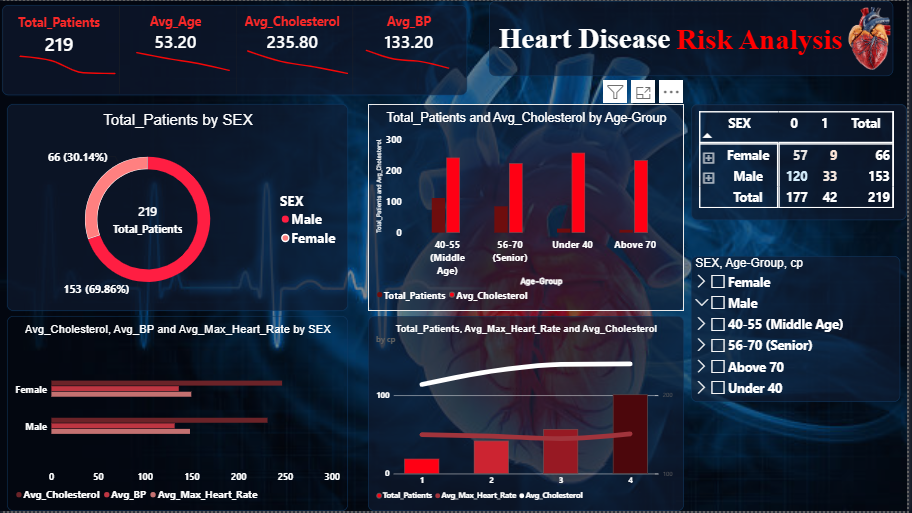

The page's visual inventory and layout, read from the dashboard file:
{"tool":"powerbi","page":{"name":"Heart Disease Risk Analysis","canvas":[1920,1080],"ordinal":0},"visuals":[{"type":"cardVisual","fields":{"Data":["scott_schema heart_disease.Total_Patients","scott_schema heart_disease.Avg_Age","scott_schema heart_disease.Avg_Cholesterol","scott_schema heart_disease.Avg_BP"]},"box":[4.2,8.5,984.7,190.6],"z":0},{"type":"donutChart","fields":{"Category":["scott_schema heart_disease.SEX"],"Y":["scott_schema heart_disease.Total_Patients"]},"box":[14.8,218.1,722.1,438.4],"z":1000},{"type":"clusteredBarChart","fields":{"Category":["scott_schema heart_disease.SEX"],"Y":["scott_schema heart_disease.Avg_Cholesterol","scott_schema heart_disease.Avg_BP","scott_schema heart_disease.Avg_Max_Heart_Rate"]},"box":[14.8,667.1,722.1,412.9],"z":2000},{"type":"clusteredColumnChart","fields":{"Category":["scott_schema heart_disease.Age-Group"],"Y":["scott_schema heart_disease.Total_Patients","scott_schema heart_disease.Avg_Cholesterol"]},"box":[779.3,218.1,669.2,438.4],"z":3000},{"type":"lineStackedColumnComboChart","fields":{"Category":["scott_schema heart_disease.cp"],"Y":["scott_schema heart_disease.Total_Patients"],"Y2":["scott_schema heart_disease.Avg_Max_Heart_Rate","scott_schema heart_disease.Avg_Cholesterol"]},"box":[779.3,667.1,669.2,412.9],"z":4000},{"type":"pivotTable","fields":{"Rows":["scott_schema heart_disease.SEX","scott_schema heart_disease.exang"],"Columns":["scott_schema heart_disease.fbs"],"Values":["scott_schema heart_disease.Total_Patients"]},"box":[1463.3,218.1,457.4,245.6],"z":5000},{"type":"slicer","fields":{"Values":["scott_schema heart_disease.SEX","scott_schema heart_disease.Age-Group","scott_schema heart_disease.cp"]},"box":[1463.3,540,442.6,309.2],"z":6000},{"type":"lineChart","fields":{"Y":["scott_schema heart_disease.Total_Patients"],"Category":["scott_schema heart_disease.Age-Group"]},"box":[0,80.5,285.9,93.2],"z":7000},{"type":"lineChart","fields":{"Y":["scott_schema heart_disease.Avg_Age"],"Category":["scott_schema heart_disease.Age-Group"]},"box":[247.8,80.5,279.5,95.3],"z":8000},{"type":"lineChart","fields":{"Y":["scott_schema heart_disease.Avg_Cholesterol"],"Category":["scott_schema heart_disease.Age-Group"]},"box":[480.7,80.5,298.6,95.3],"z":9000},{"type":"lineChart","fields":{"Y":["scott_schema heart_disease.Avg_BP"],"Category":["scott_schema heart_disease.Age-Group"]},"box":[736.9,80.5,252,95.3],"z":10000},{"type":"shape","box":[1035.5,0,855.5,158.8],"z":11000},{"type":"image","box":[1759,6.4,160.9,146.1],"z":12000},{"type":"shape","box":[1425.2,8.5,366.4,144],"z":13000}]}

Visuals, with their boxes in screenshot pixels (x1, y1, x2, y2), scaled from the page's 1920x1080 canvas onto the 912x513 screenshot:
cardVisual - scott_schema heart_disease.Total_Patients x scott_schema heart_disease.Avg_Age: x1=2, y1=4, x2=470, y2=95
donutChart - scott_schema heart_disease.SEX x scott_schema heart_disease.Total_Patients: x1=7, y1=104, x2=350, y2=312
clusteredBarChart - scott_schema heart_disease.SEX x scott_schema heart_disease.Avg_Cholesterol: x1=7, y1=317, x2=350, y2=512
clusteredColumnChart - scott_schema heart_disease.Age-Group x scott_schema heart_disease.Total_Patients: x1=370, y1=104, x2=688, y2=312
lineStackedColumnComboChart - scott_schema heart_disease.cp x scott_schema heart_disease.Total_Patients: x1=370, y1=317, x2=688, y2=512
pivotTable - scott_schema heart_disease.SEX x scott_schema heart_disease.exang: x1=695, y1=104, x2=911, y2=220
slicer - scott_schema heart_disease.SEX x scott_schema heart_disease.Age-Group: x1=695, y1=256, x2=905, y2=403
lineChart - scott_schema heart_disease.Total_Patients x scott_schema heart_disease.Age-Group: x1=0, y1=38, x2=136, y2=83
lineChart - scott_schema heart_disease.Avg_Age x scott_schema heart_disease.Age-Group: x1=118, y1=38, x2=250, y2=84
lineChart - scott_schema heart_disease.Avg_Cholesterol x scott_schema heart_disease.Age-Group: x1=228, y1=38, x2=370, y2=84
lineChart - scott_schema heart_disease.Avg_BP x scott_schema heart_disease.Age-Group: x1=350, y1=38, x2=470, y2=84
shape: x1=492, y1=0, x2=898, y2=75
image: x1=836, y1=3, x2=911, y2=72
shape: x1=677, y1=4, x2=851, y2=72
